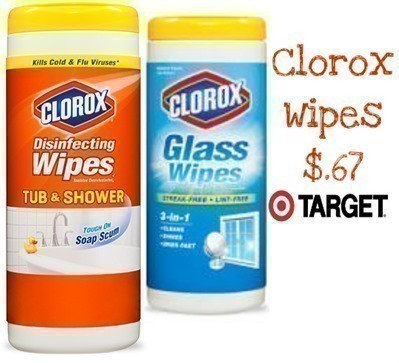Wipes: (3, 1, 144, 356), (143, 11, 271, 318)
